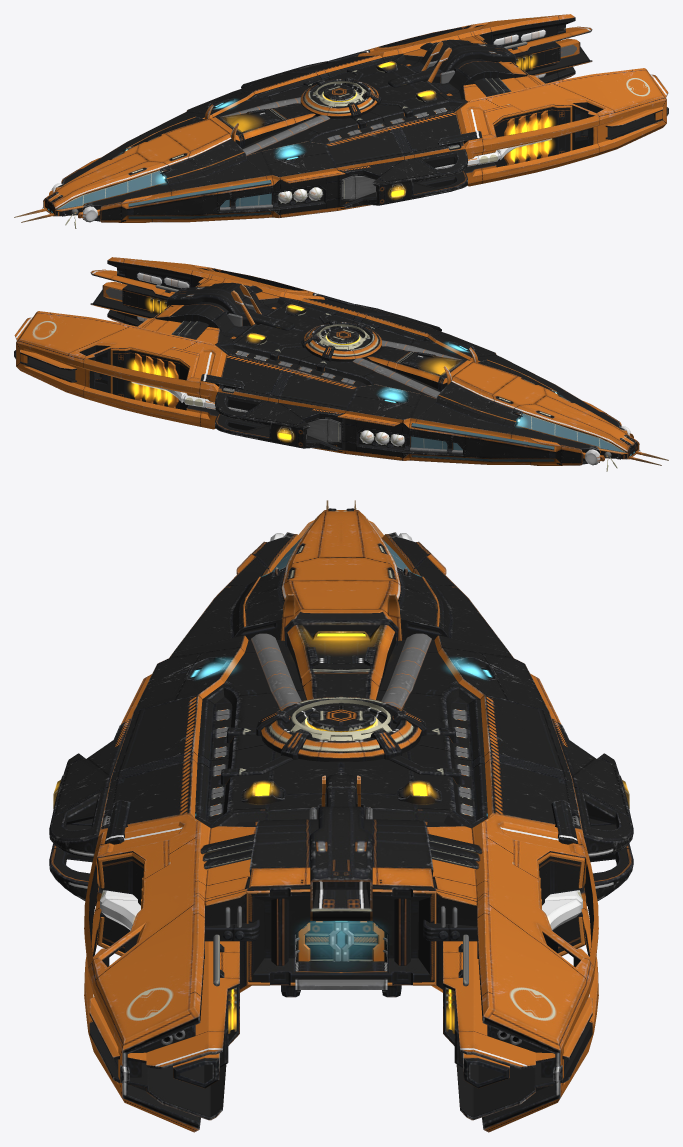
The model's file is spaceship-compressed.glb.
3 views of the same model, one above another, from view 1: azimuth 30°, elevation 25°; view 2: azimuth 150°, elevation 25°; view 3: azimuth 270°, elevation 25° (orthographic). The views are drawn at different scales.
Parts seen in each view (by area): view 1: o_100_mk2_low; view 2: o_100_mk2_low; view 3: o_100_mk2_low.
Part boxes in pixels (x1=…): o_100_mk2_low: x1=14, y1=14, x2=668, y2=228; o_100_mk2_low: x1=14, y1=257, x2=668, y2=471; o_100_mk2_low: x1=49, y1=500, x2=633, y2=1132.
Size of the model in its own units: 1423 by 241 by 594.
Materials: 1 (1 with a texture image).
